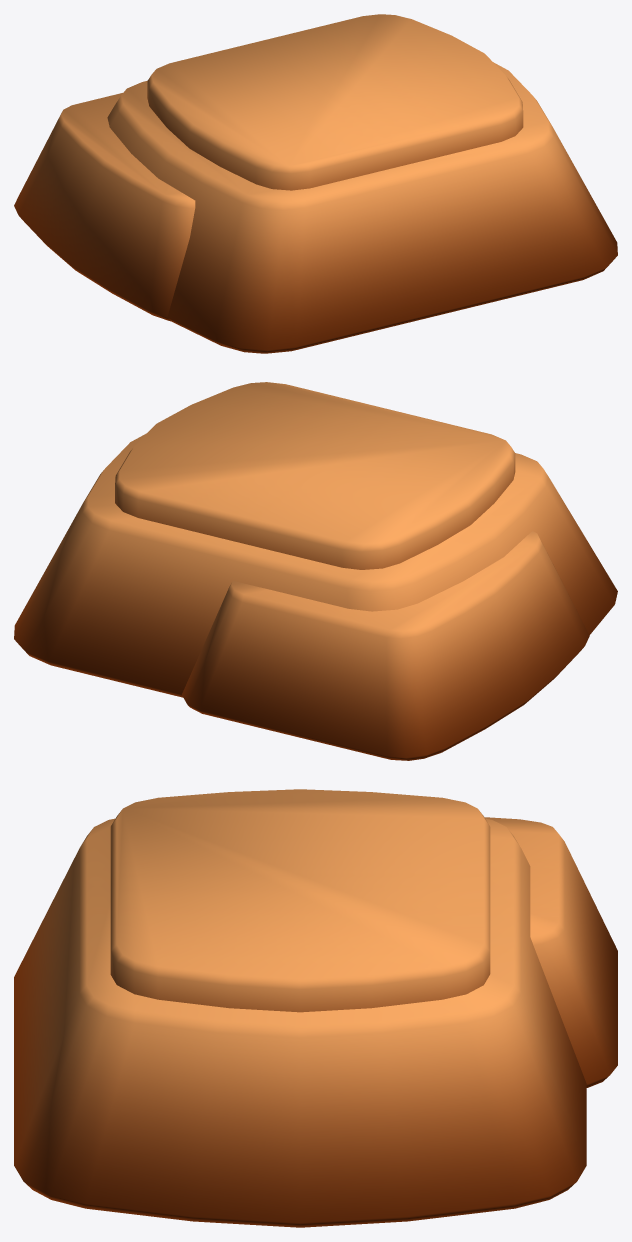
The model's file is mountain1.fbx.
The picture shows the model from 3 angles, top to bottom: view 1: azimuth 30°, elevation 25°; view 2: azimuth 150°, elevation 25°; view 3: azimuth 270°, elevation 25°; orthographic projection. The views are drawn at different scales.
Visible parts, largest first — view 1: Platform1.005; view 2: Platform1.005; view 3: Platform1.005.
Boxes of the visible parts, x1=… form: Platform1.005: x1=14, y1=14, x2=617, y2=353; Platform1.005: x1=14, y1=382, x2=617, y2=760; Platform1.005: x1=14, y1=789, x2=617, y2=1227.
Bounding box in the file's own units: 2954 × 912 × 2501.
